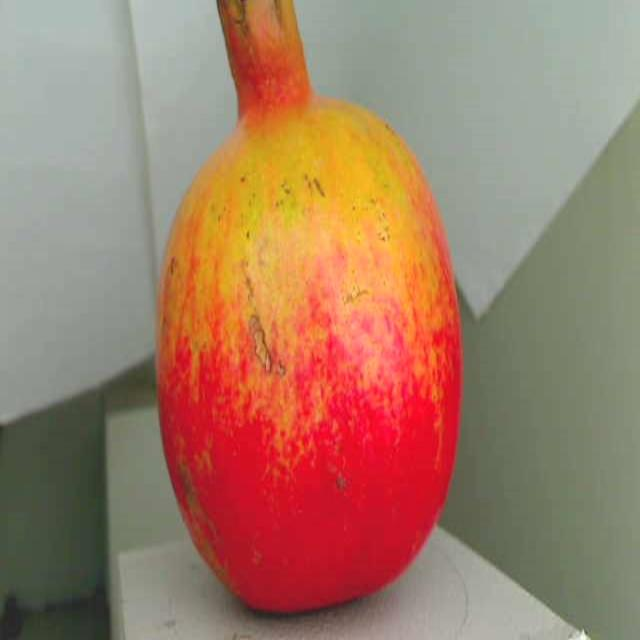pomegranate: (148, 0, 468, 640)
